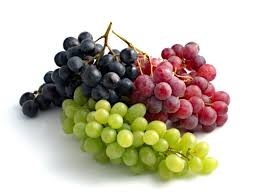Black grapes: (12, 30, 138, 107)
Green grapes: (62, 98, 215, 180)
Red Grapes: (132, 47, 235, 136)
